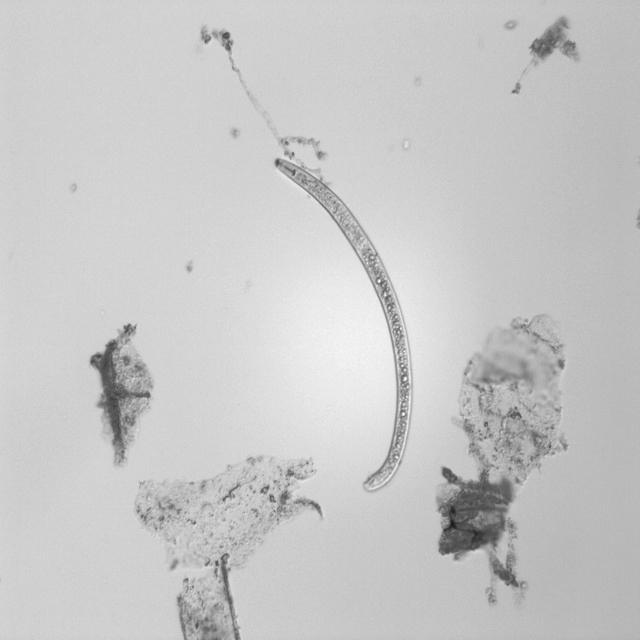Helicotylenchus: (262, 161, 418, 497)
